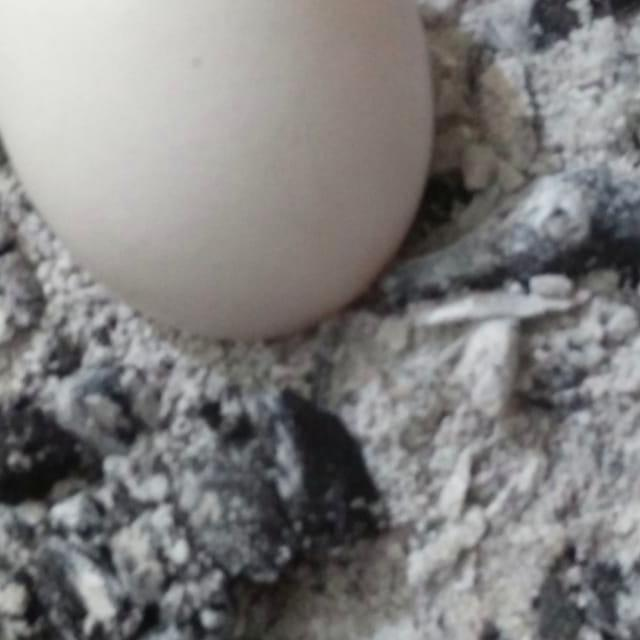egg: (0, 0, 439, 346)
